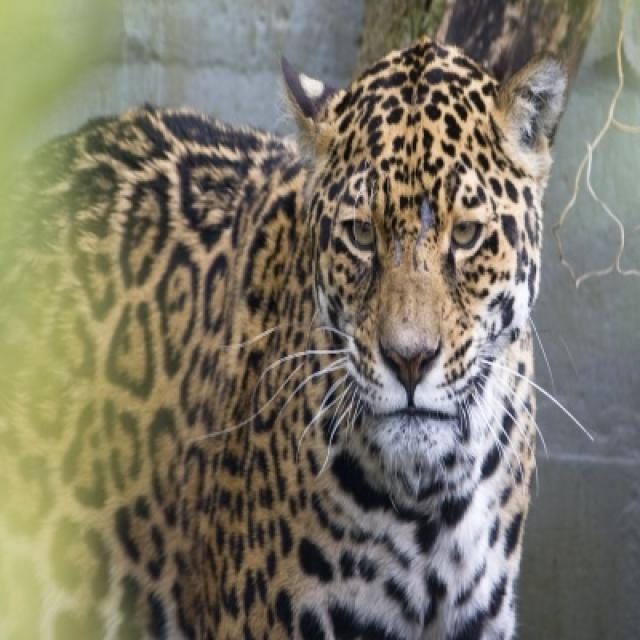Jaguar: (0, 0, 602, 638)
